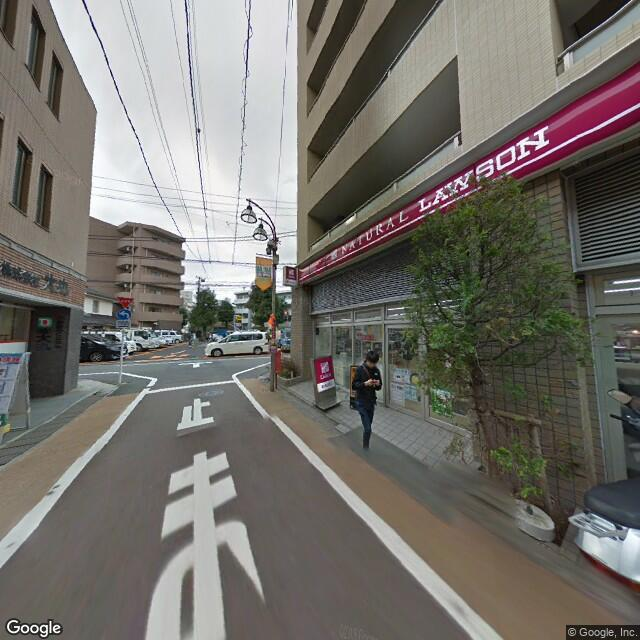lawson: (297, 58, 639, 286)
